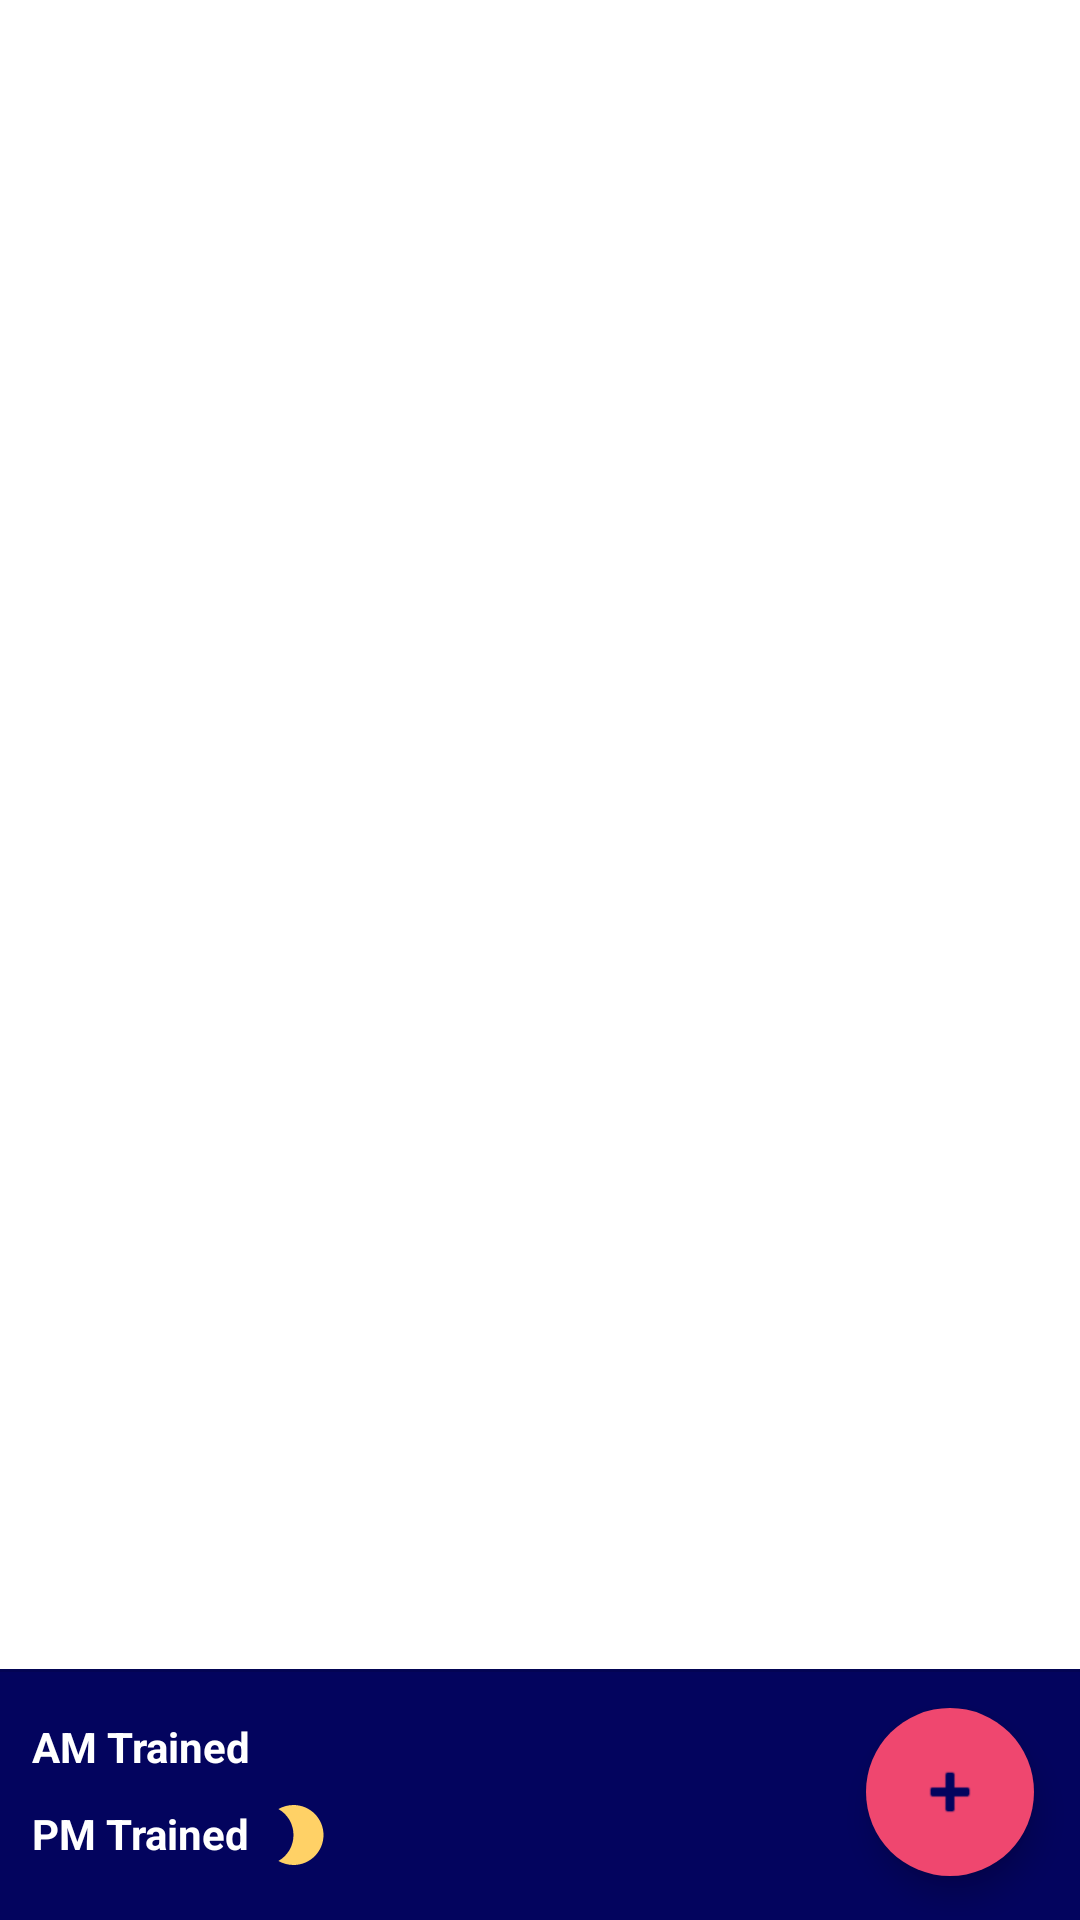

Point at icon controls on the screen. Image size 1080x1920, points as [x,y].
add: [950,1792]
mode night: [301,1835]
